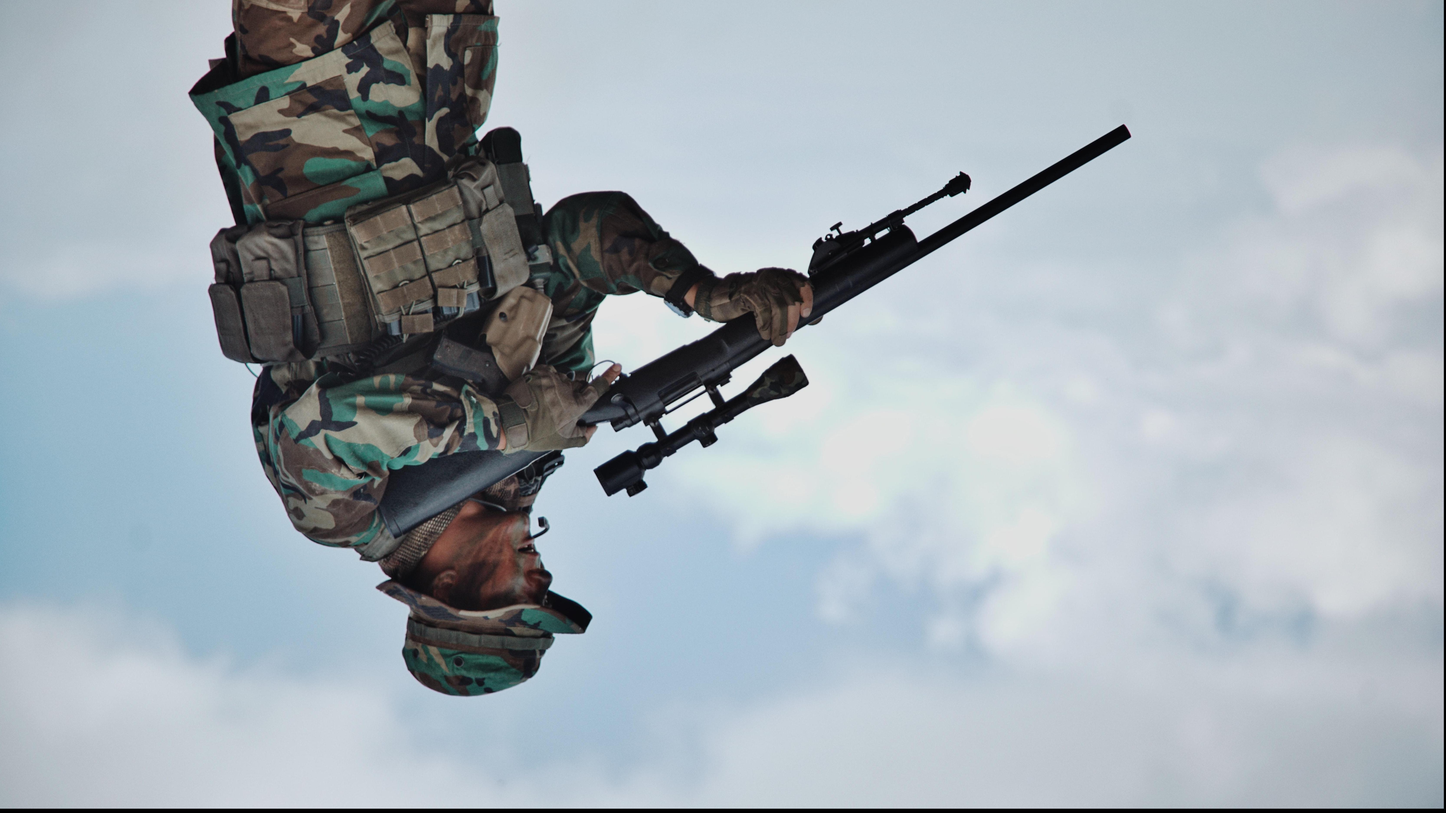larga: (380, 119, 1137, 537)
